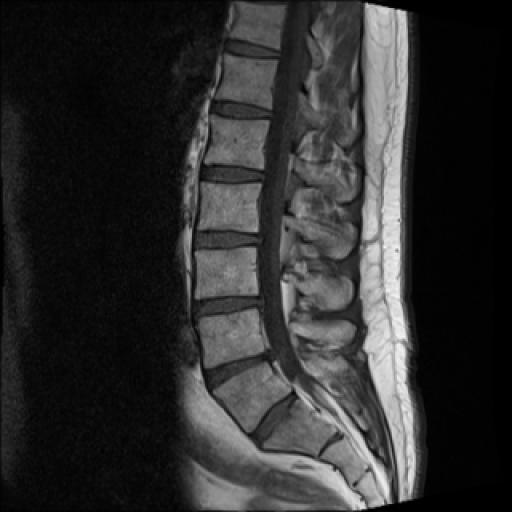L1: (204, 114, 269, 170)
L2: (198, 182, 260, 232)
L3: (195, 248, 258, 298)
L4: (199, 309, 264, 368)
L5: (213, 362, 292, 432)
S1: (263, 399, 337, 456)
